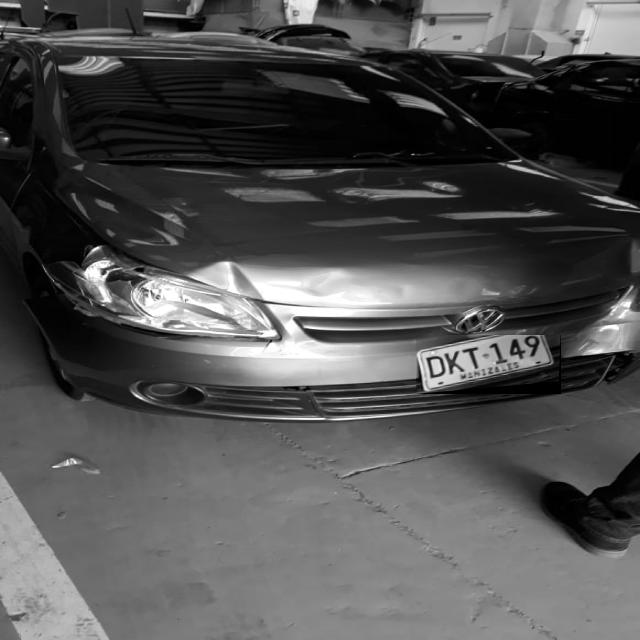plate: (416, 335, 560, 394)
